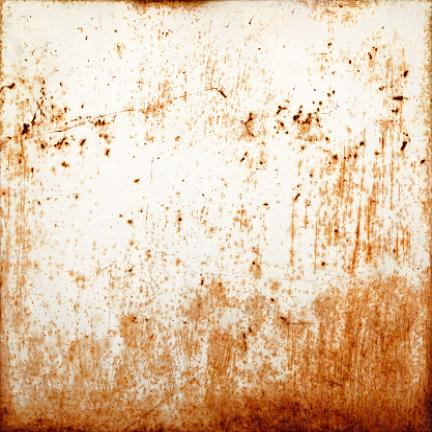karat: (196, 274, 430, 429)
